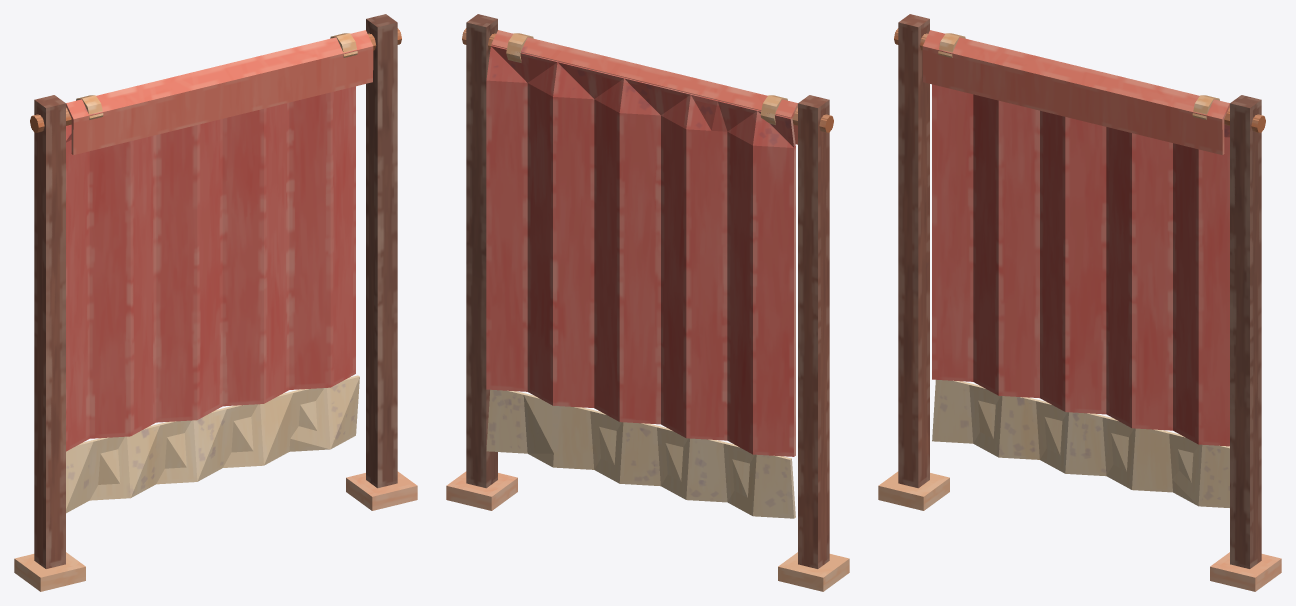
Rendered from rack_red.bundle.fbx.
3 views of the same model, side by side, from view 1: azimuth 30°, elevation 25°; view 2: azimuth 150°, elevation 25°; view 3: azimuth 330°, elevation 25° (orthographic).
Visible parts, largest first — view 1: rack_red, rack_red_s02, rack_red_low, rack_red_s00, rack_red_s01, rack_red_s03; view 2: rack_red, rack_red_low, rack_red_s02, rack_red_s00, rack_red_s01, rack_red_s03; view 3: rack_red, rack_red_s02, rack_red_low, rack_red_s00, rack_red_s01, rack_red_s03.
Part boxes in pixels (x1,y1,x2,y2): rack_red: (15, 15, 415, 589); rack_red_s02: (139, 31, 399, 341); rack_red_low: (14, 14, 417, 591); rack_red_s00: (33, 85, 188, 426); rack_red_s01: (223, 249, 355, 451); rack_red_s03: (67, 336, 299, 462); rack_red: (448, 15, 833, 589); rack_red_low: (446, 14, 849, 591); rack_red_s02: (465, 30, 725, 358); rack_red_s00: (671, 85, 827, 442); rack_red_s01: (486, 200, 620, 463); rack_red_s03: (547, 354, 795, 466); rack_red: (880, 15, 1280, 589); rack_red_s02: (1001, 48, 1262, 348); rack_red_low: (878, 14, 1281, 591); rack_red_s00: (896, 30, 1059, 357); rack_red_s01: (1106, 265, 1229, 506); rack_red_s03: (932, 327, 1179, 495).
Bounding box in the file's own units: 8.3 × 10 × 1.
1 material, 1 textured.
